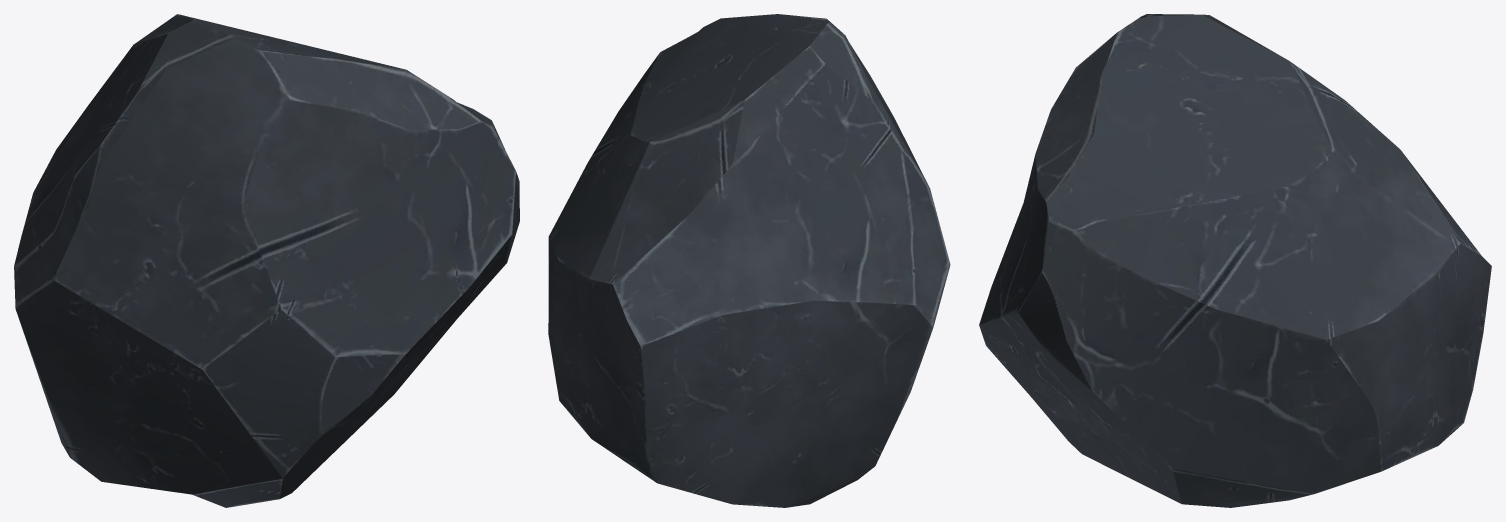
Rendered from stylized_rock-transformed.glb.
The picture shows the model from 3 angles, left to right: view 1: azimuth 30°, elevation 25°; view 2: azimuth 150°, elevation 25°; view 3: azimuth 270°, elevation 25°; orthographic projection. The views are drawn at different scales.
Parts seen in each view (by area): view 1: lp_Material.001_0; view 2: lp_Material.001_0; view 3: lp_Material.001_0.
Part boxes in pixels (x1,y1,x2,y2): lp_Material.001_0: (14,14,519,507); lp_Material.001_0: (548,14,950,507); lp_Material.001_0: (979,14,1491,507).
Size of the model in its own units: 1.14 by 1.25 by 1.25.
1 material, 1 textured.
